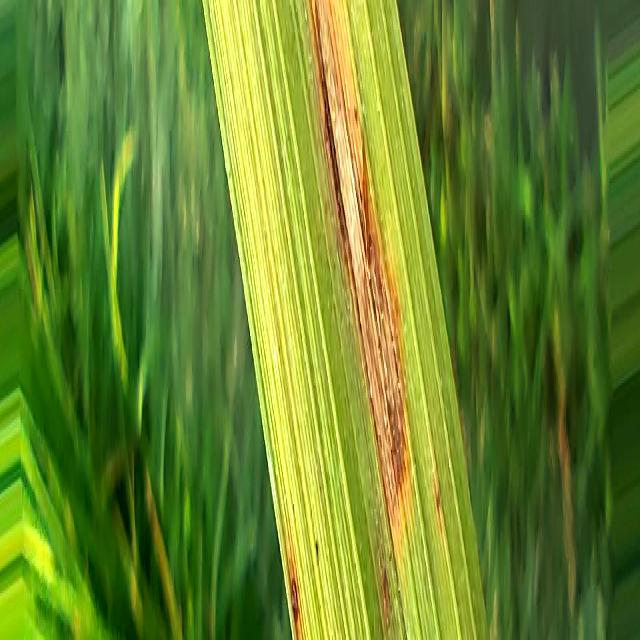LEAF BLAST: (312, 0, 408, 536), (290, 569, 299, 624)
